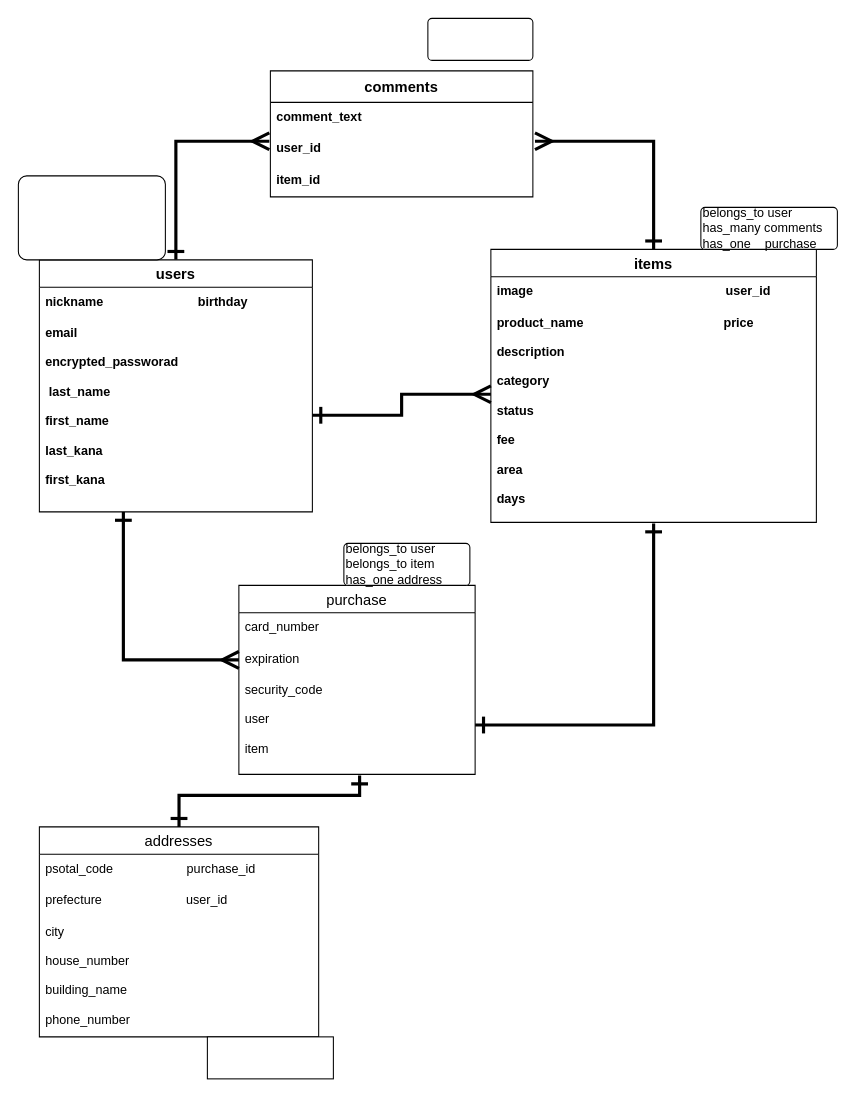
The diagram is 856 pixels wide and 1097 high, and some of its shapes have lost their labels. Each missing label, with the centre of its shape:
belongs_to purchase: point (269, 1057)
belongs_to user belongs_to item: point (480, 38)
has_many items has_many comments has_many purchase has_one address: point (91, 217)
